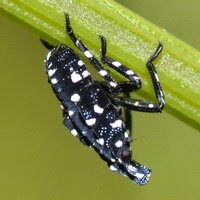insect: (41, 13, 164, 184)
